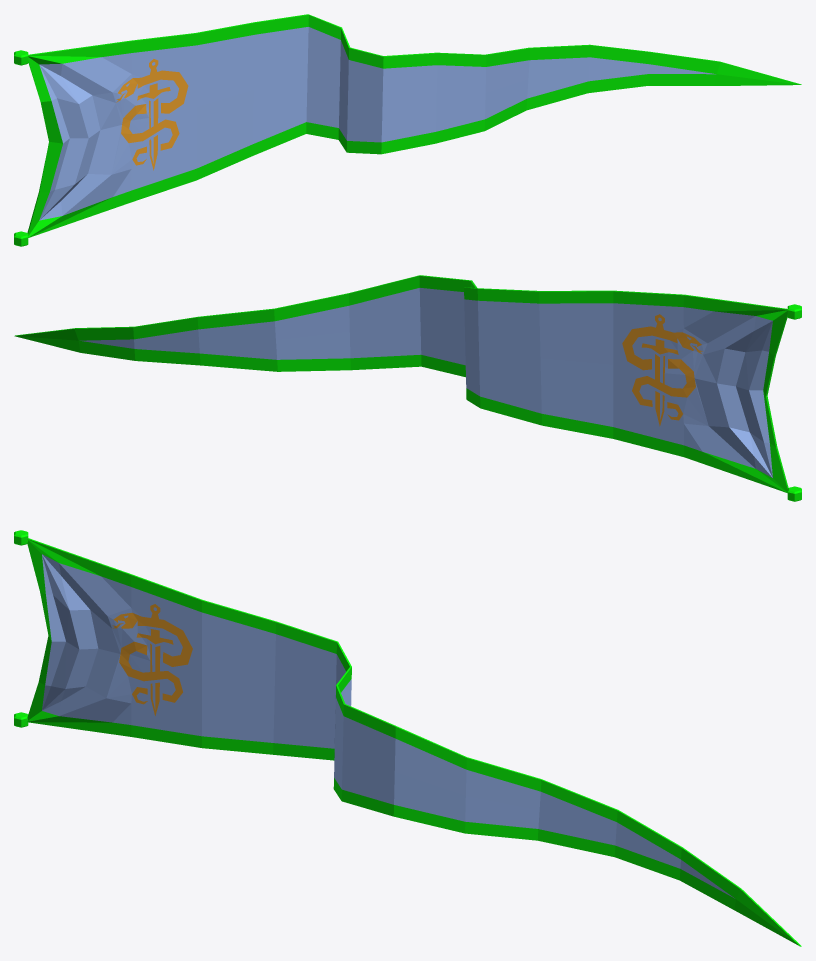
File: SM_Flag_Triangle_D_Fantasy.fbx
3 views of the same model, one above another, from view 1: azimuth 30°, elevation 25°; view 2: azimuth 150°, elevation 25°; view 3: azimuth 330°, elevation 25° (orthographic).
Visible parts, largest first — view 1: flag-triangle-d-fantasy; view 2: flag-triangle-d-fantasy; view 3: flag-triangle-d-fantasy.
Boxes of the visible parts, <box> form: flag-triangle-d-fantasy: <box>14,14,801,246</box>; flag-triangle-d-fantasy: <box>14,275,801,501</box>; flag-triangle-d-fantasy: <box>14,530,801,946</box>.
Bounding box in the file's own units: 4.89 × 1.31 × 0.3947.
